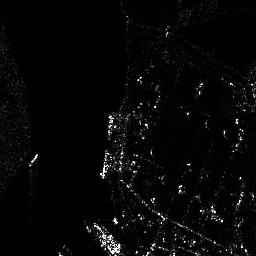ship: (92, 221, 121, 255)
